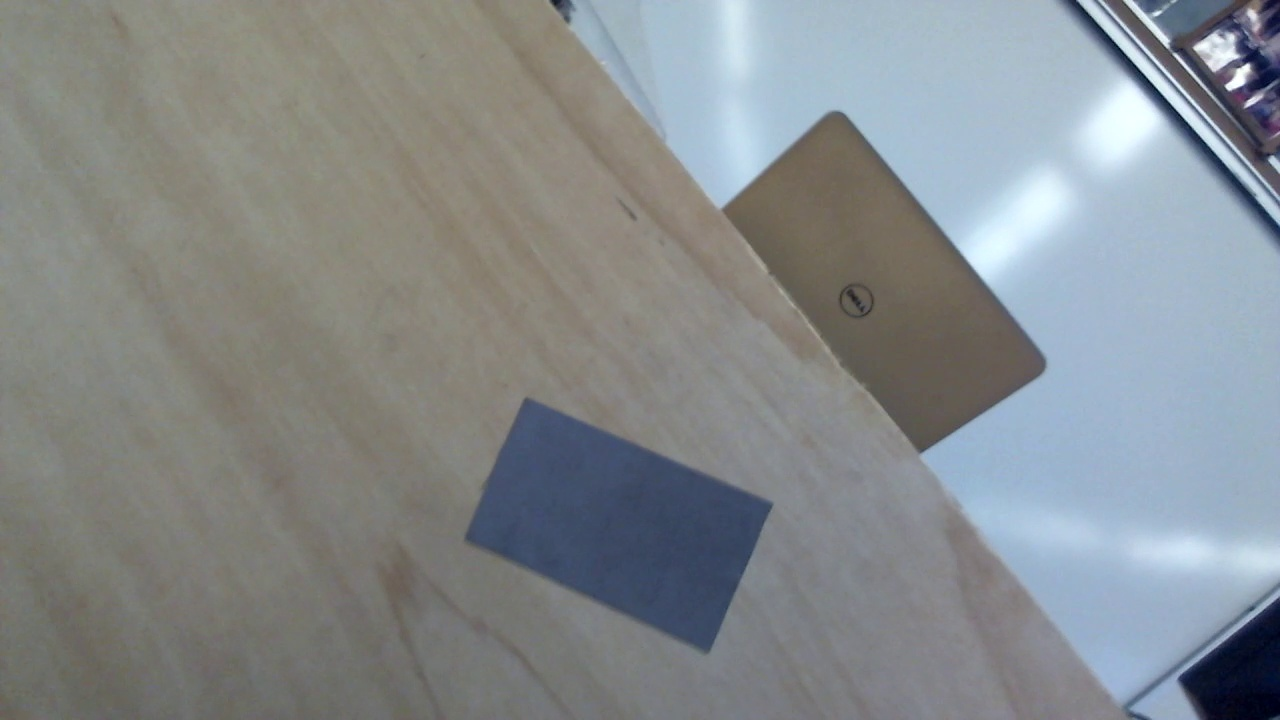Tape: (462, 398, 776, 658)
